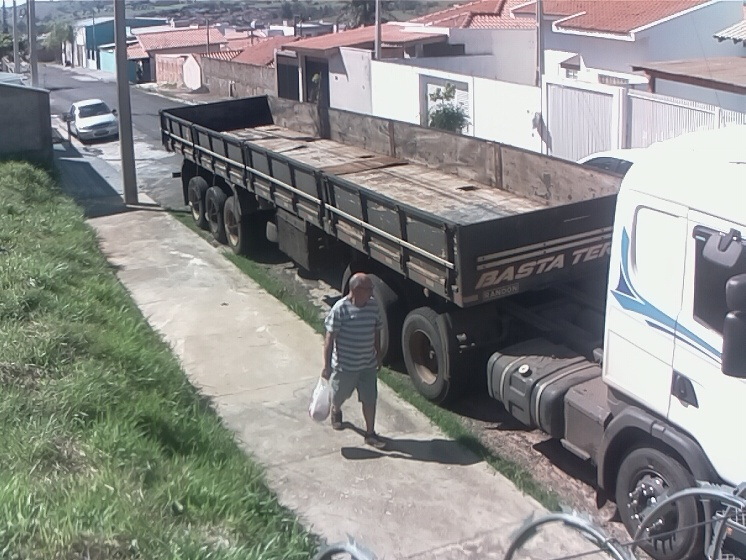person: (318, 268, 396, 452)
